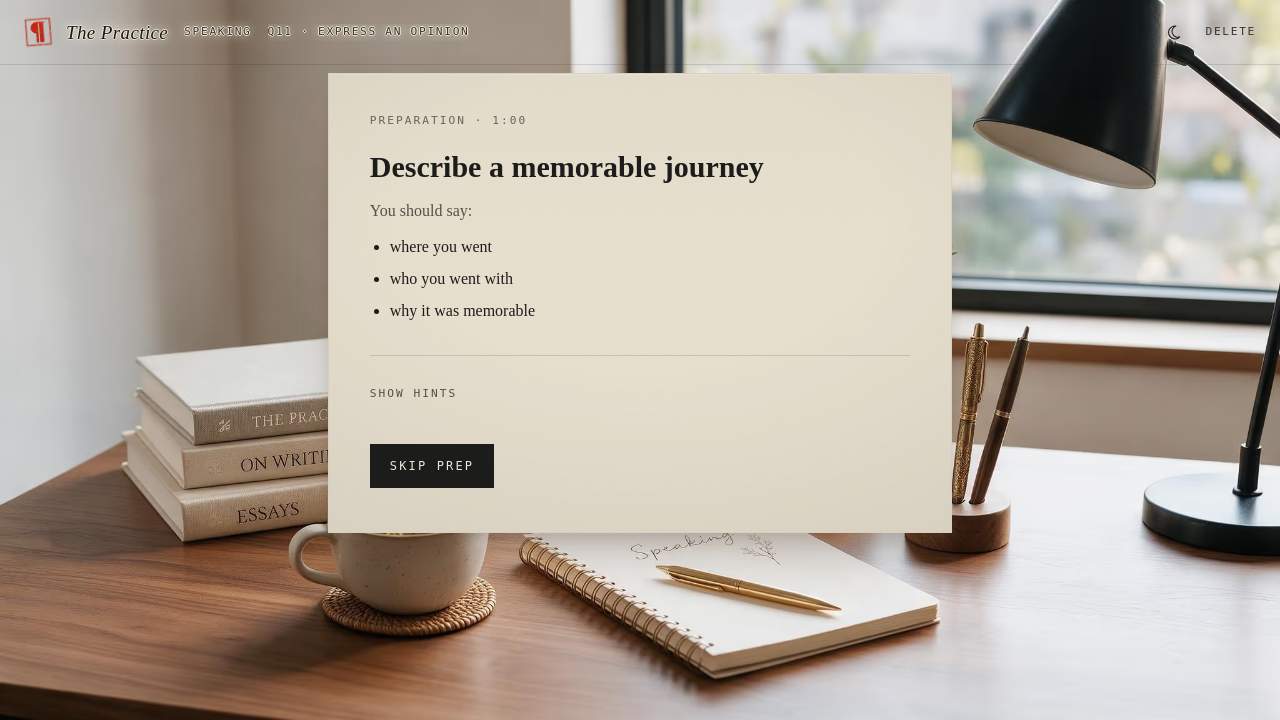
Test: SpeakingAttemptPage phases › keeps Review and audio after submit failure so the user can retry
The width and height of the screenshot is (1280, 720).
What coordinates should you click on to do the following:
click the button "Skip prep"
I would click on:
 (432, 466)
Its box is [370,444,494,488].
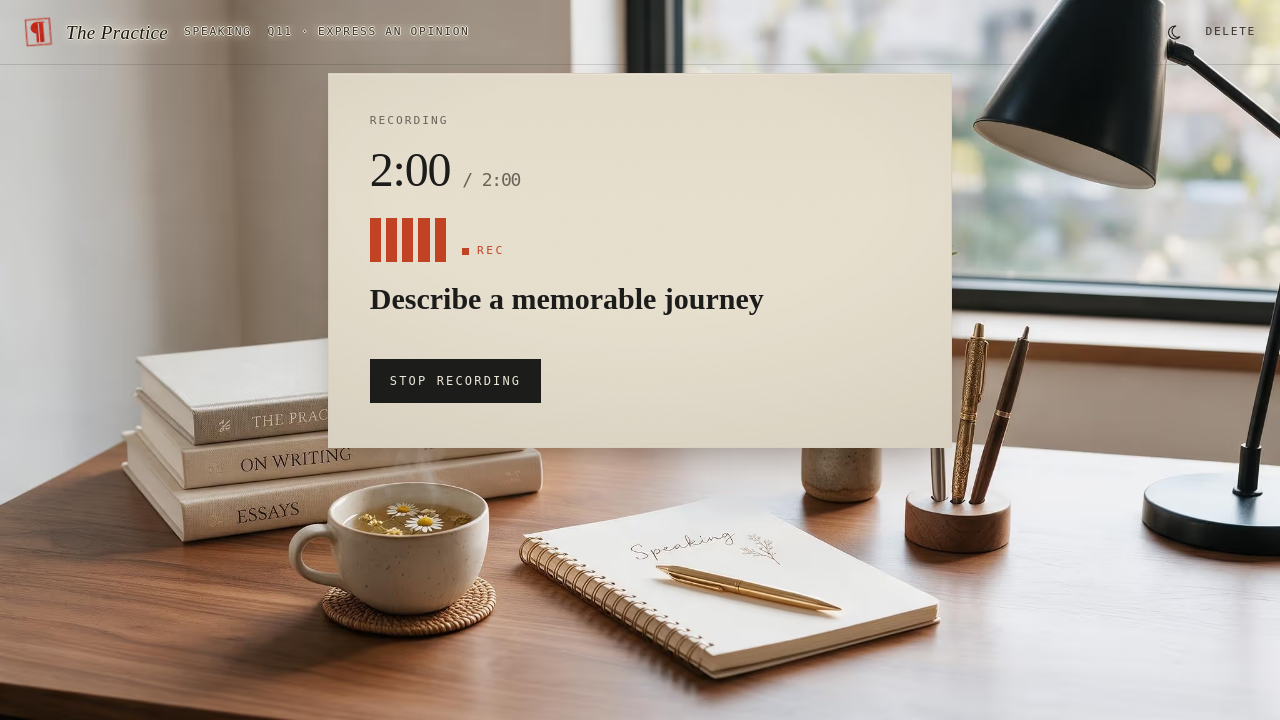
Now the button "Stop recording" is shown
What coordinates should you click on to do the following:
click the button "Stop recording"
I would click on:
 (456, 381)
Its box is [370,359,541,403].
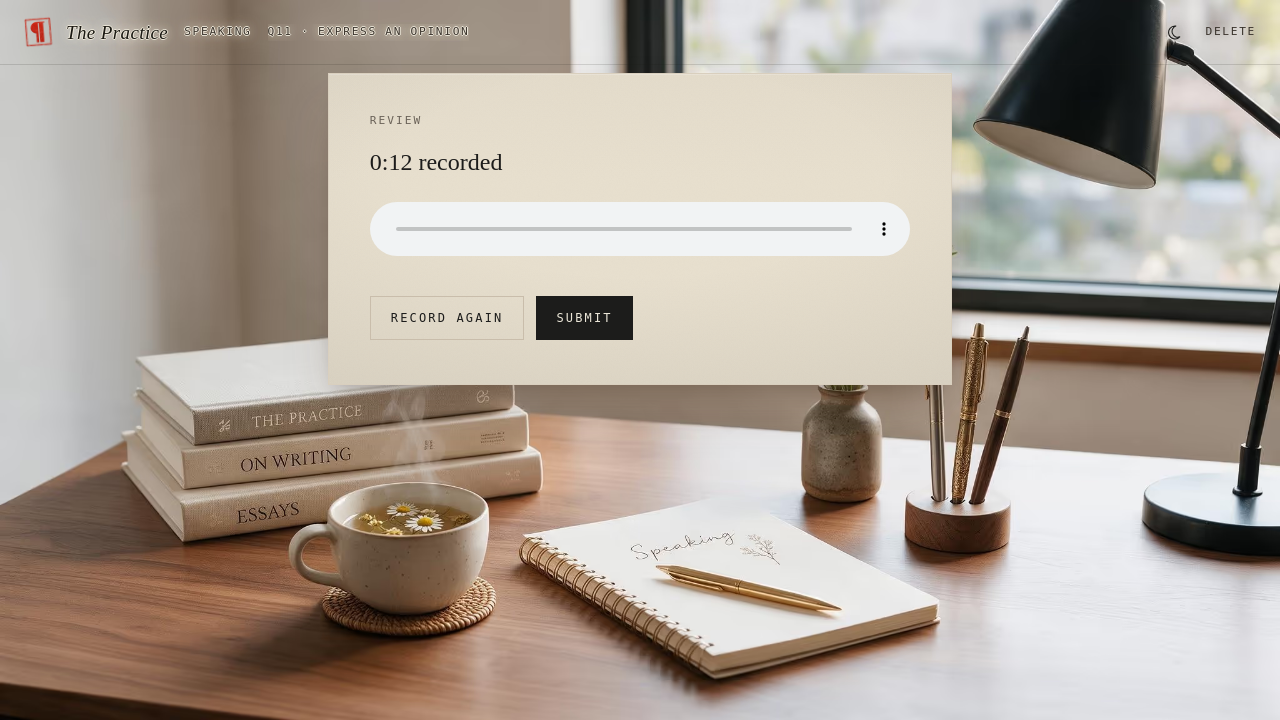
What coordinates should you click on to do the following:
click the button "Submit"
I would click on:
 (585, 318)
Its box is [536,296,633,340].
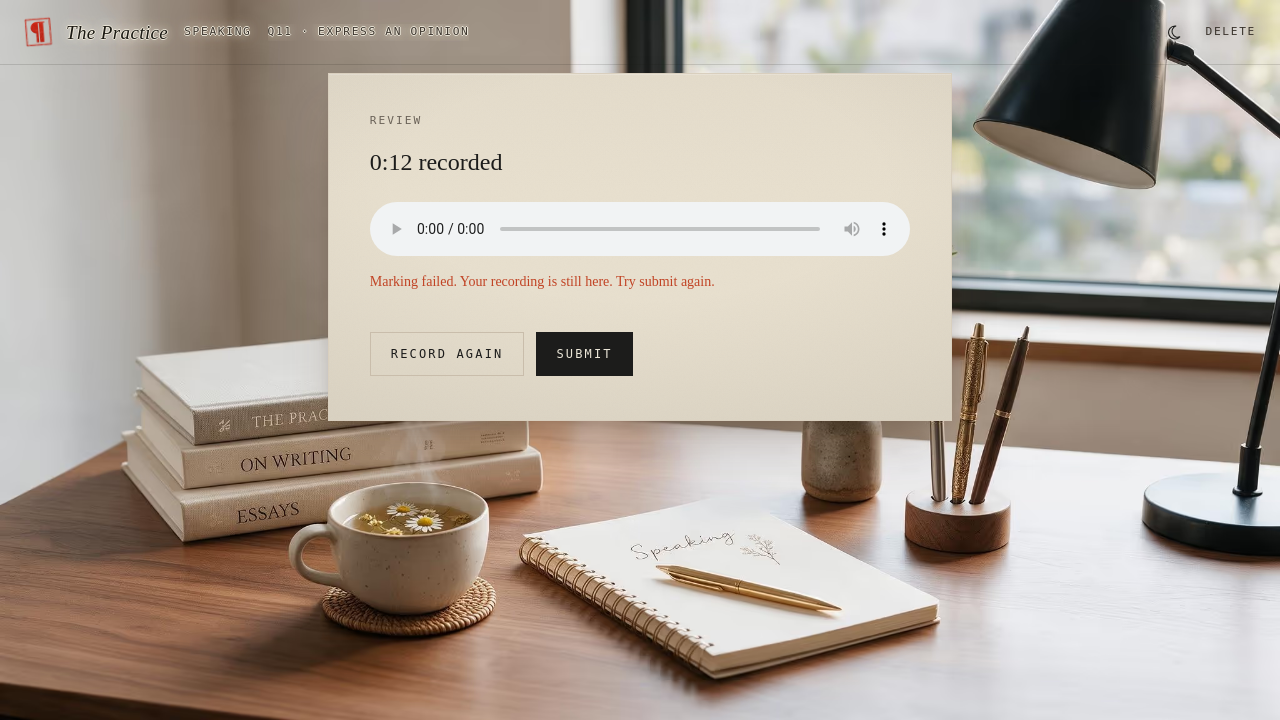
Now the button "Submit" is shown, box [536,332,633,376]
Now the button "Record again" is shown, box [370,332,524,376]
Now the text "Marking failed" is shown, box [370,274,715,289]
